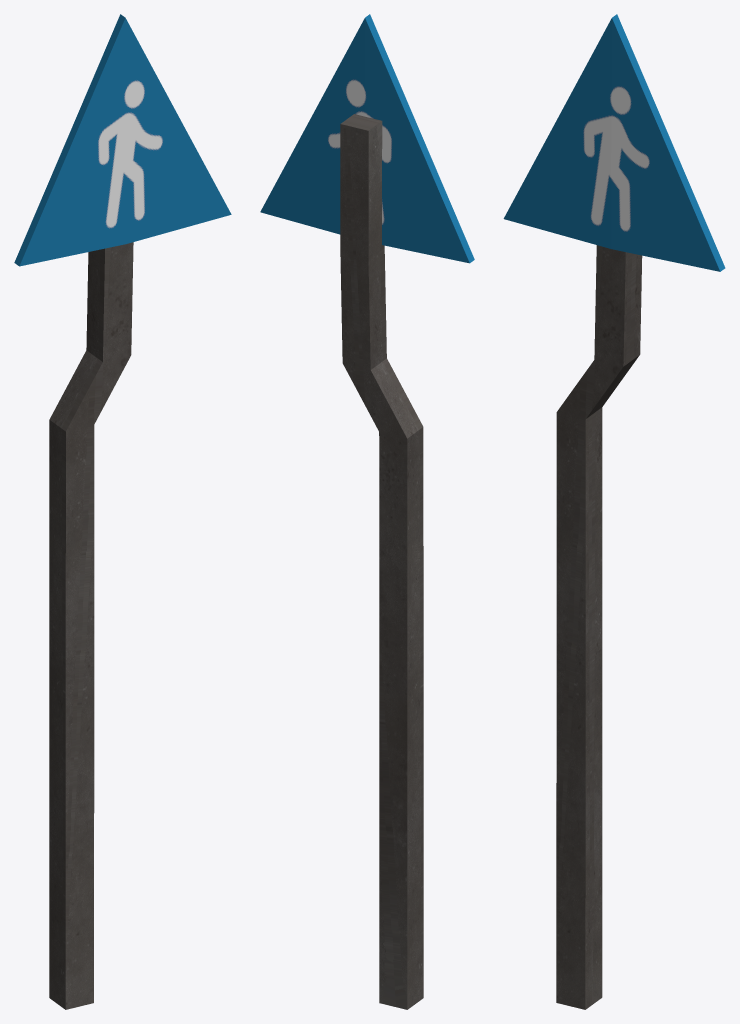
File: PlacaPedestres.fbx
3 renders of one model, left to right at view 1: azimuth 30°, elevation 25°; view 2: azimuth 150°, elevation 25°; view 3: azimuth 330°, elevation 25°, orthographic. The views are drawn at different scales.
Parts seen in each view (by area): view 1: Placa1; view 2: Placa1; view 3: Placa1.
Part boxes in pixels (<box>): Placa1: <box>14,14,231,1009</box>; Placa1: <box>260,14,474,1009</box>; Placa1: <box>503,14,725,1009</box>.
Size of the model in its own units: 77.56 by 342 by 12.57.
